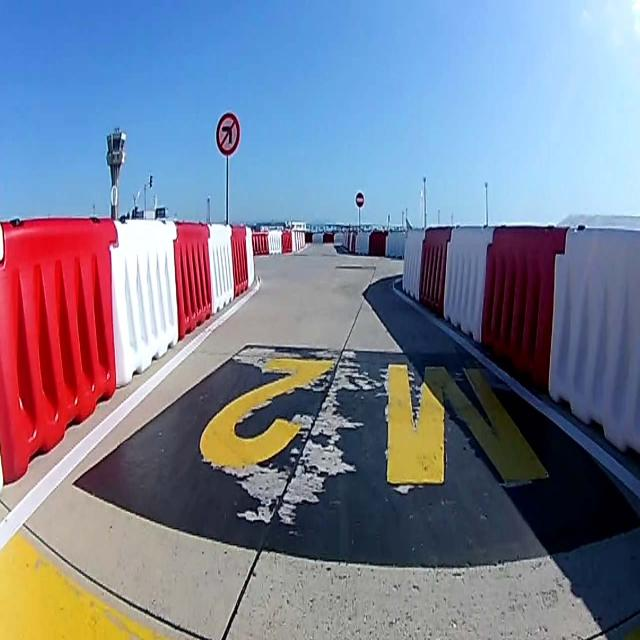girisyok: (355, 188, 365, 207)
soladonulmez: (216, 114, 240, 154)
